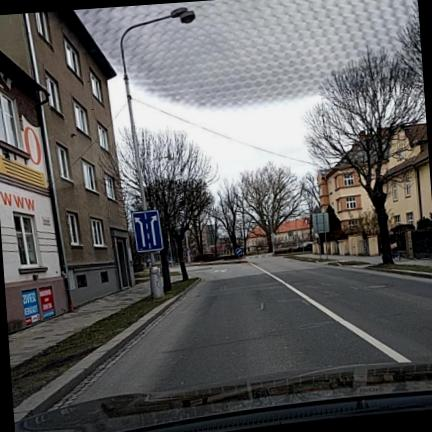Road: (73, 257, 431, 402)
